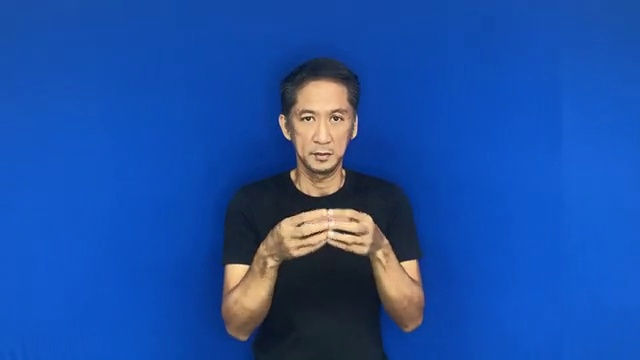egg: (253, 200, 398, 270)
